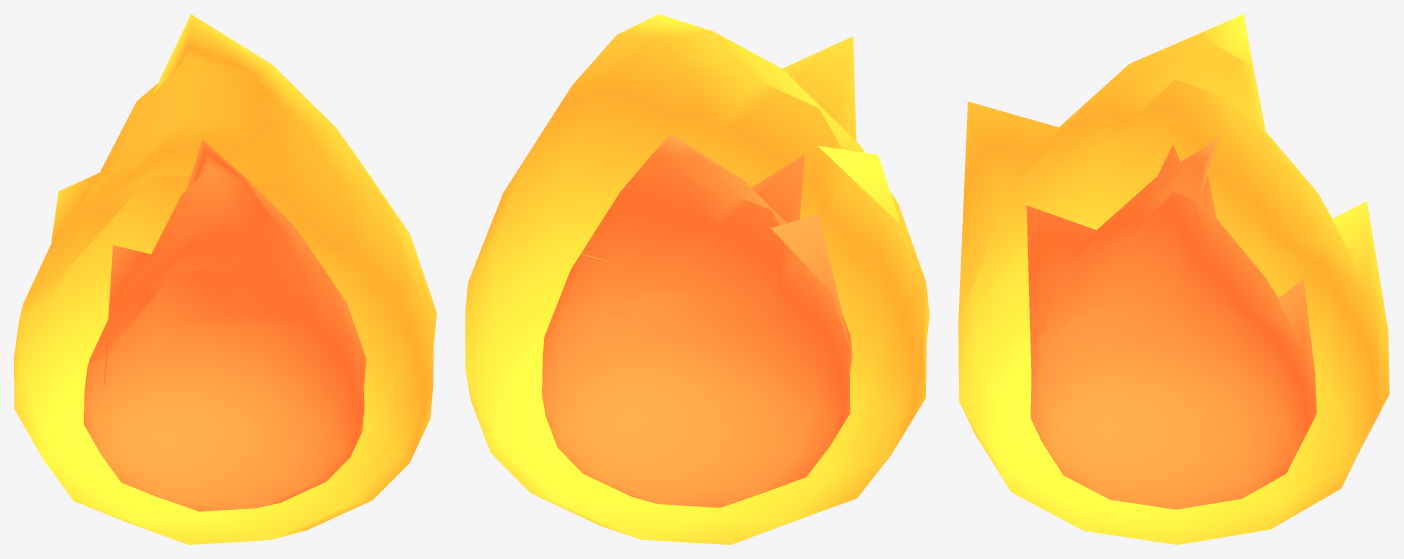
Rendered from fire.gltf.
3 renders of one model, left to right at view 1: azimuth 30°, elevation 25°; view 2: azimuth 150°, elevation 25°; view 3: azimuth 270°, elevation 25°, orthographic. The views are drawn at different scales.
Visible parts, largest first — view 1: Outter, Inner; view 2: Outter, Inner; view 3: Outter, Inner.
Part boxes in pixels (x1,y1,x2,y2): Outter: (14,14,436,544); Inner: (84,140,366,511); Outter: (465,14,929,544); Inner: (542,133,852,507); Outter: (958,14,1389,544); Inner: (1026,137,1316,509).
Size of the model in its own units: 0.6859 by 0.8572 by 0.6667.
